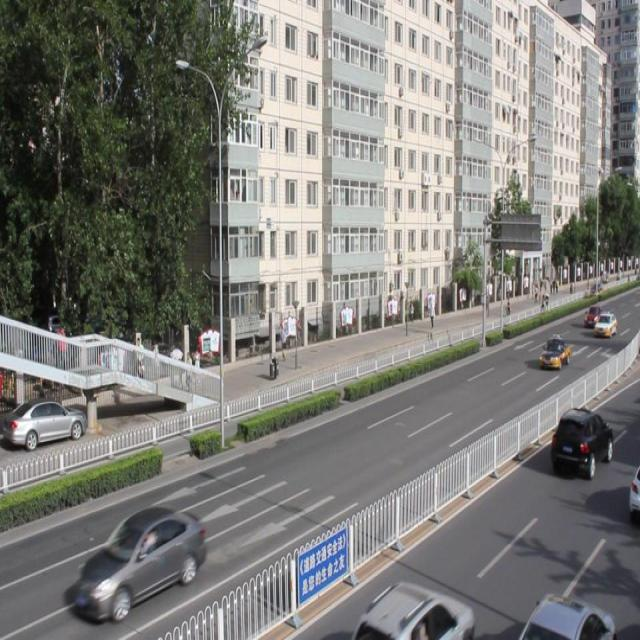car: (72, 503, 206, 616), (355, 578, 472, 640), (520, 589, 613, 640), (550, 406, 611, 476), (539, 334, 569, 369)
